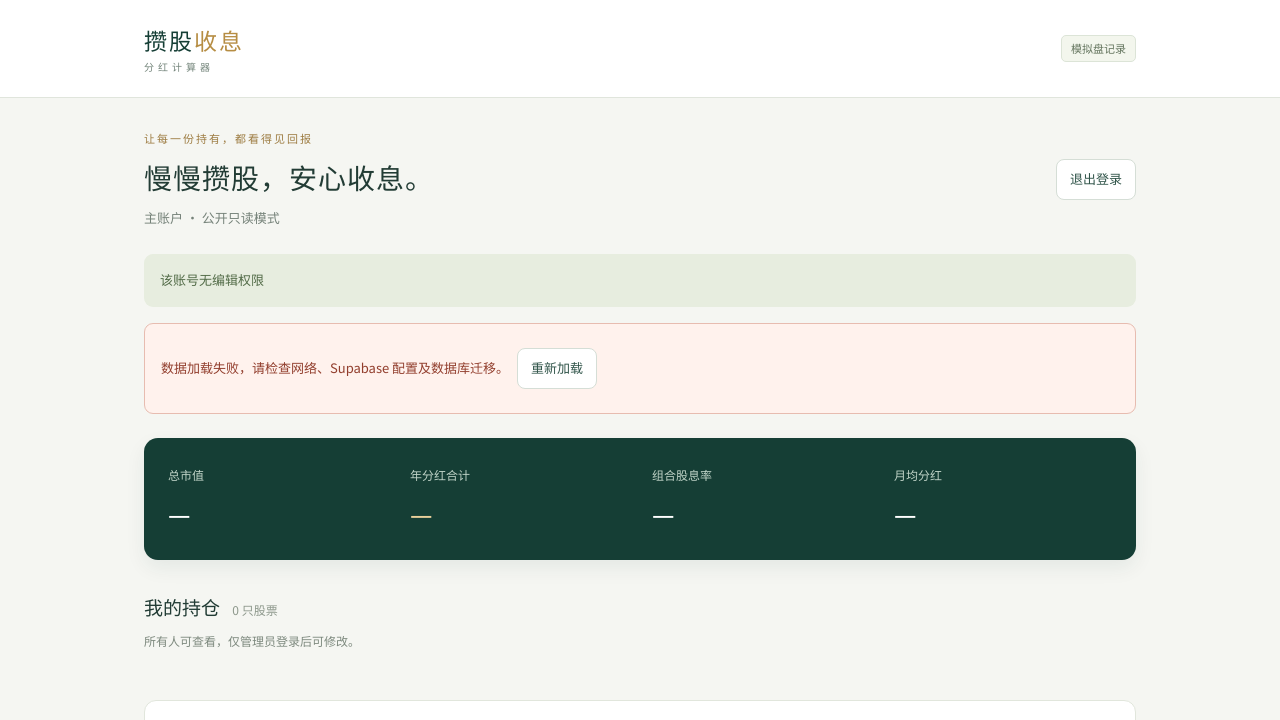
Test: 重新加载未结束时退出，迟到的管理员结果不能恢复编辑或覆盖新持仓
This screenshot has width=1280, height=720.
Click the button "重新加载". click: point(557, 368)
box: x1=517 y1=348 x2=597 y2=389
Wait 1000 ms
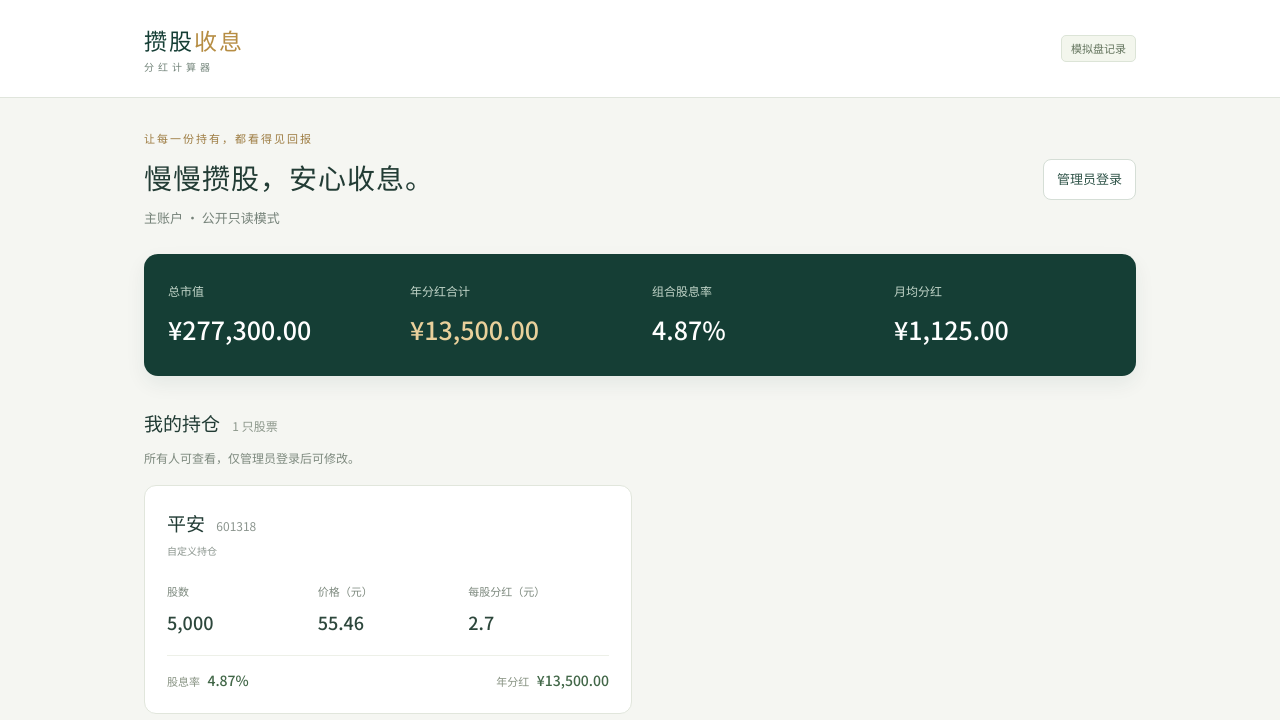
Check: the button "管理员登录" is shown, box x1=1043 y1=159 x2=1136 y2=200
